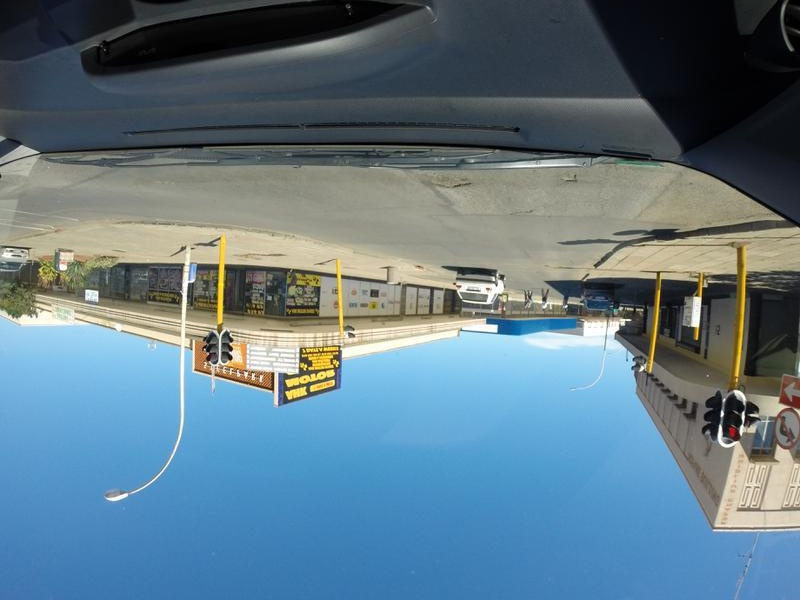pothole: (416, 172, 478, 200), (508, 205, 537, 221), (559, 169, 581, 188)
